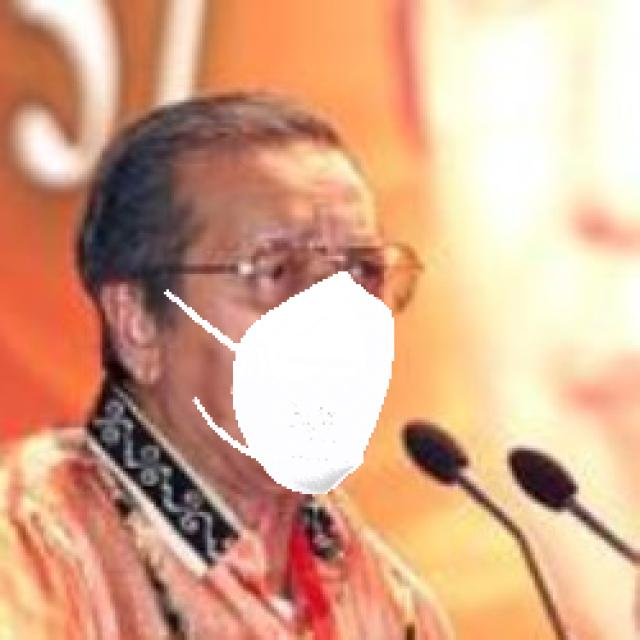mask: (175, 283, 423, 495)
